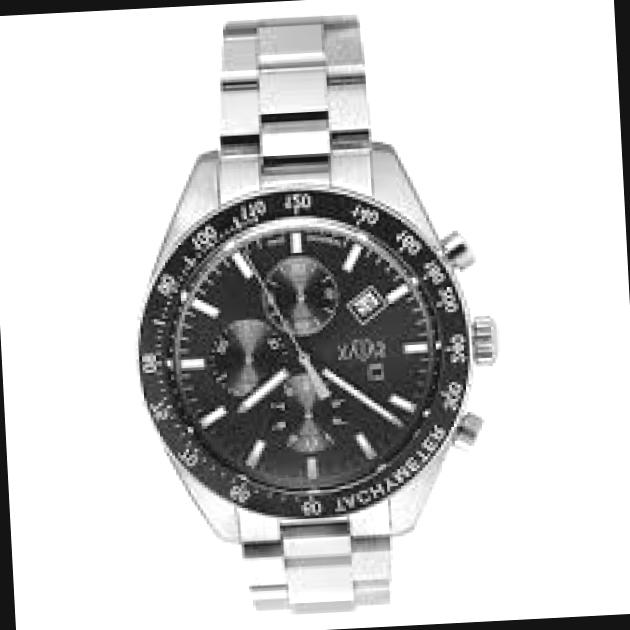wristwatch: (109, 0, 529, 630)
